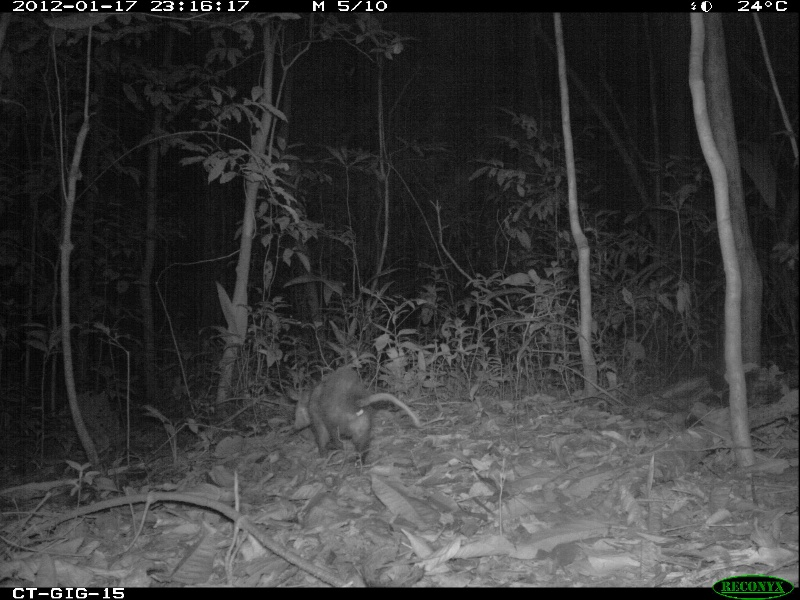opossum: (287, 373, 423, 464)
